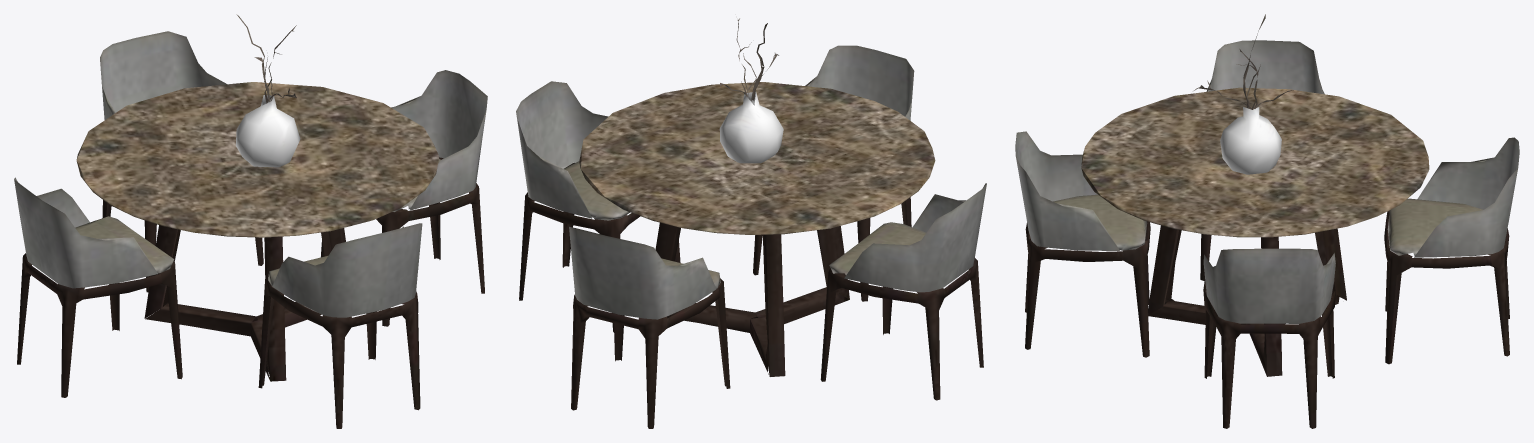
The model's file is DiningTable0003.obj.
3 renders of one model, left to right at view 1: azimuth 30°, elevation 25°; view 2: azimuth 150°, elevation 25°; view 3: azimuth 270°, elevation 25°, orthographic. The views are drawn at different scales.
Bounding box in the file's own units: 1.98 × 1.37 × 2.02.
1 material, 1 textured.
